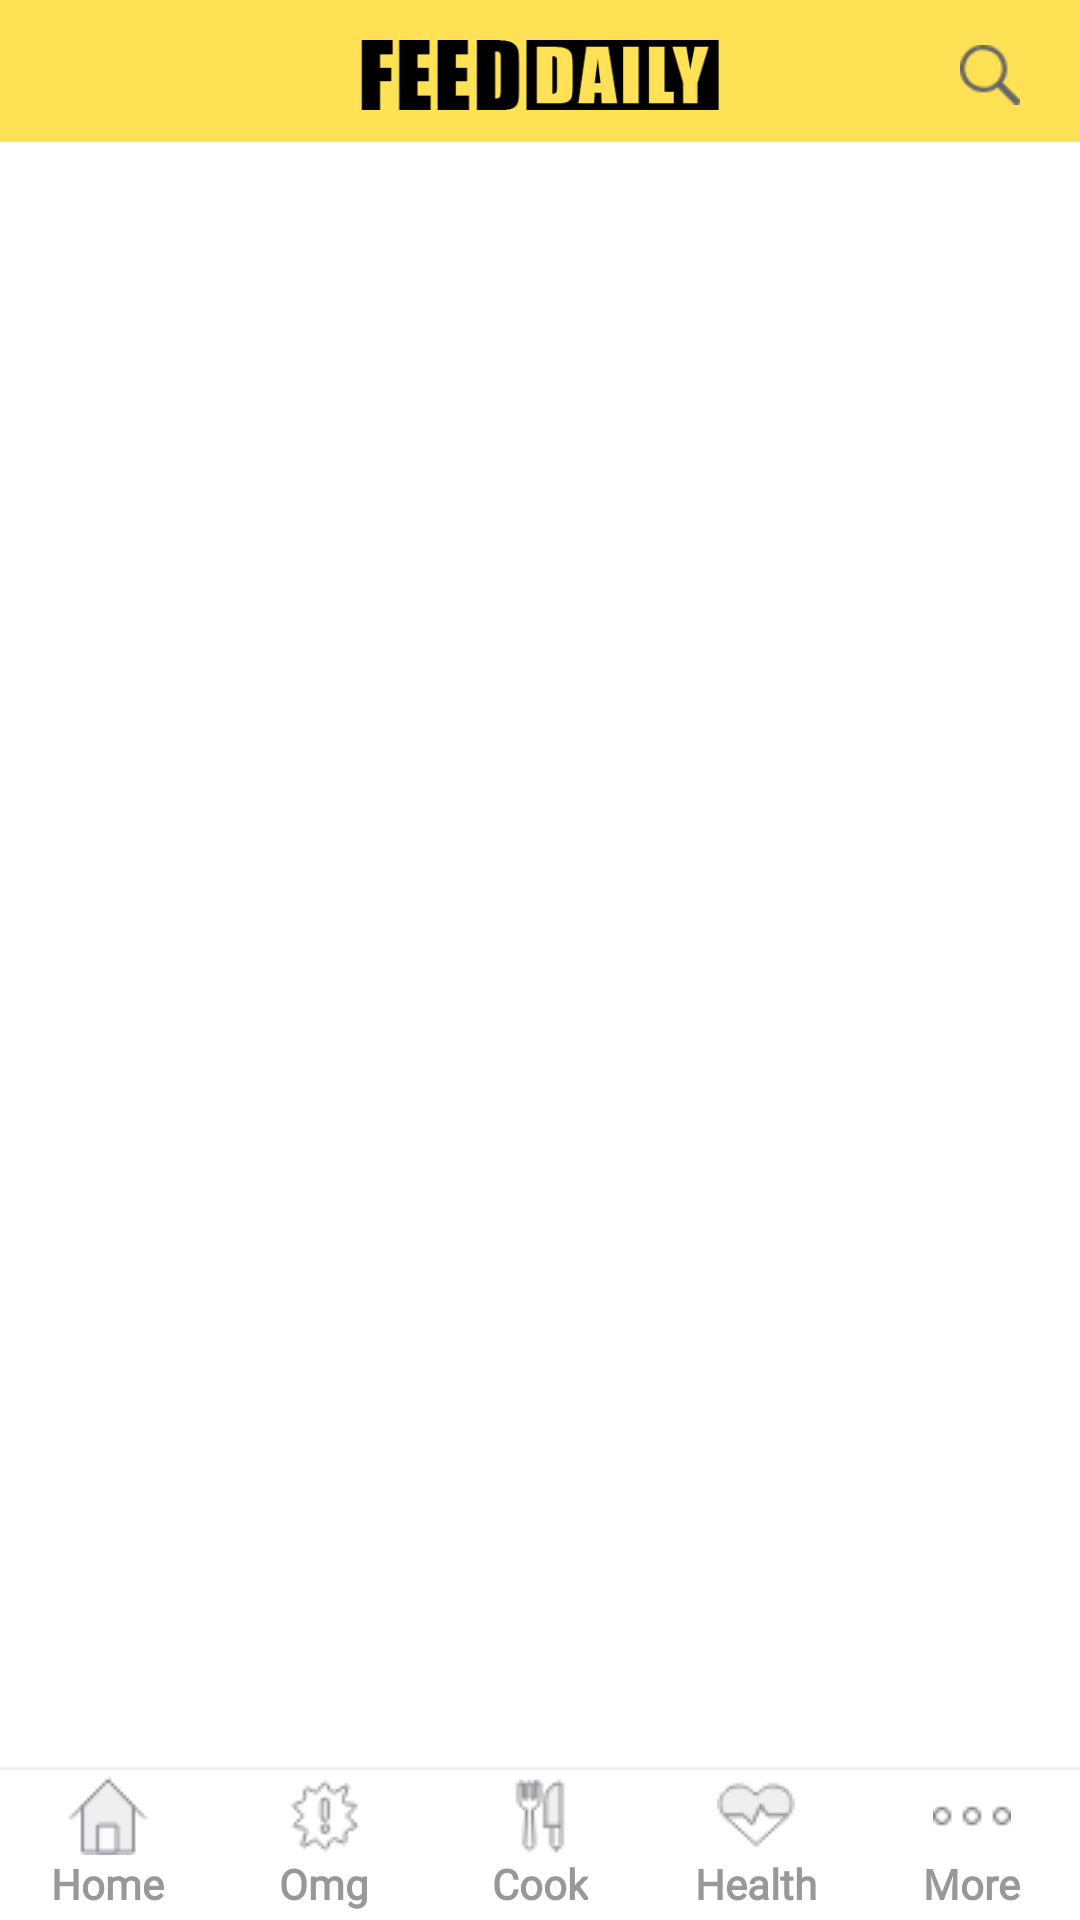

Icon bounding boxes for this 1080px×1920px phone screenshot, format [left=x1, top=y1, right=x2, bottom=y2]:
searchmini: [left=960, top=45, right=1020, bottom=105]
